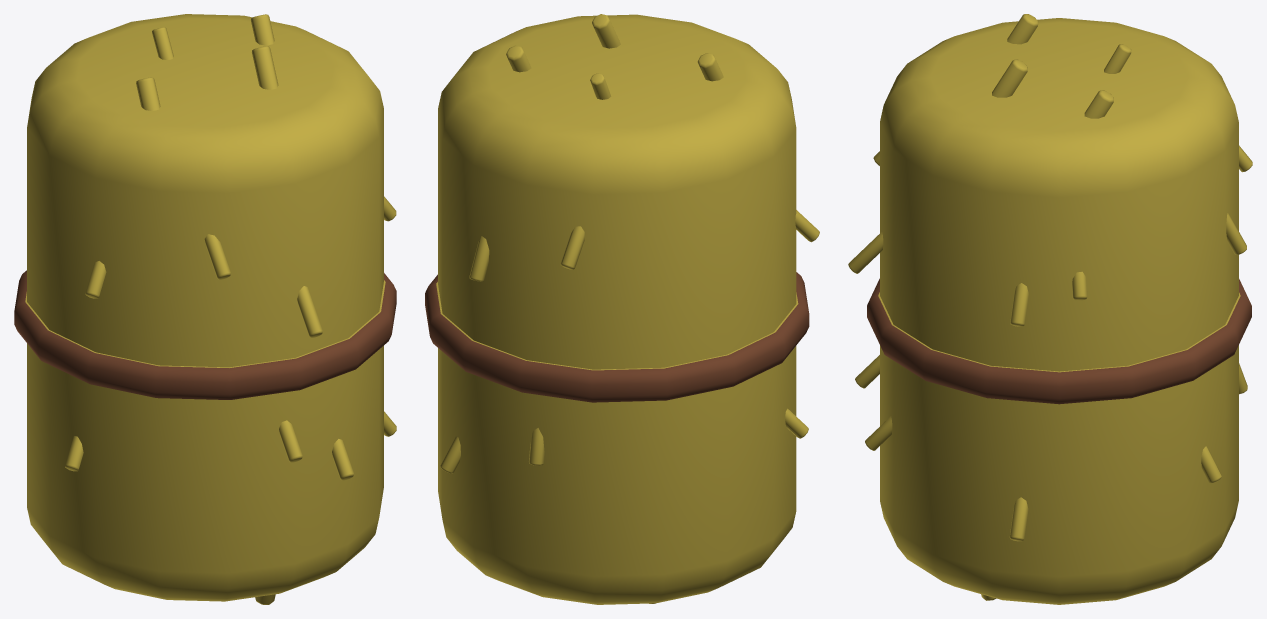
The model's file is prop6.fbx.
3 views of the same model, side by side, from view 1: azimuth 30°, elevation 25°; view 2: azimuth 150°, elevation 25°; view 3: azimuth 270°, elevation 25° (orthographic).
Visible parts, largest first — view 1: Cylinder.015; view 2: Cylinder.015; view 3: Cylinder.015.
Boxes of the visible parts, <box> form: Cylinder.015: <box>14,14,396,604</box>; Cylinder.015: <box>425,14,819,604</box>; Cylinder.015: <box>848,14,1252,604</box>.
Size of the model in its own units: 1.83 by 1.91 by 2.83.
